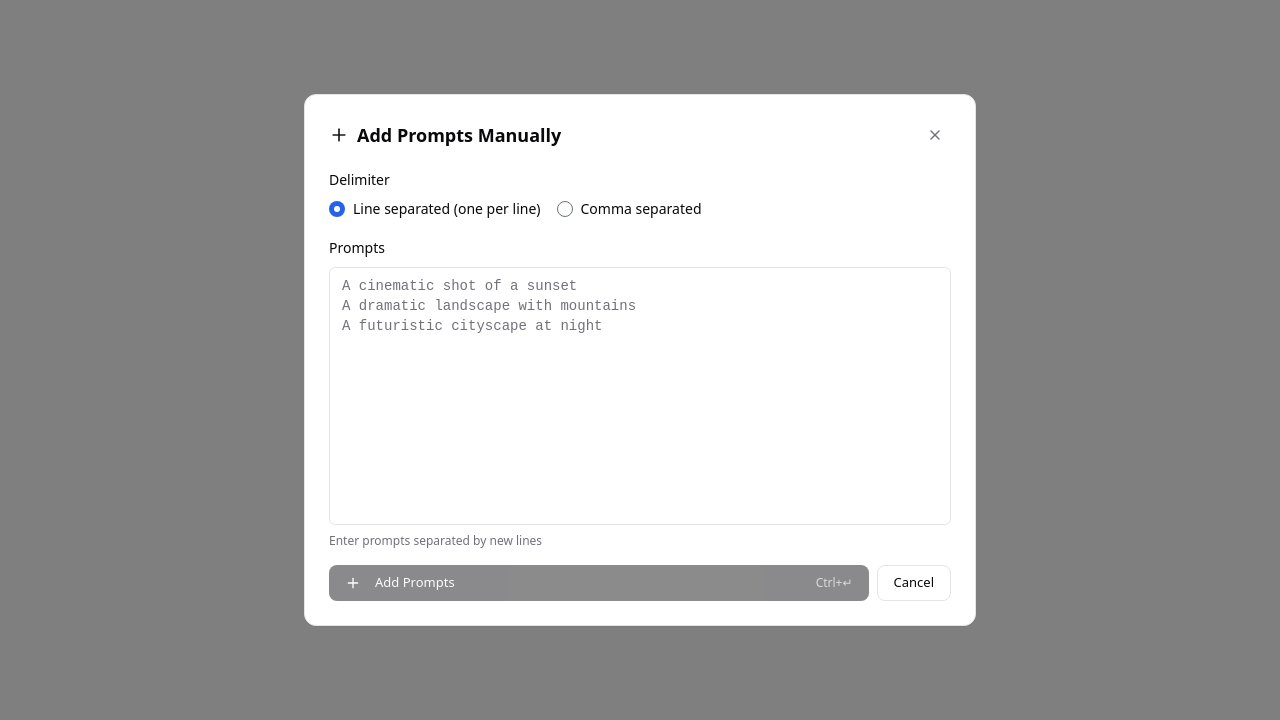
Test: ManualAddDialog › should handle add errors
The image size is (1280, 720).
Replace the text in the text box labelled "Prompts" with "Prompt 1": [640, 396] box [329,267,951,525]
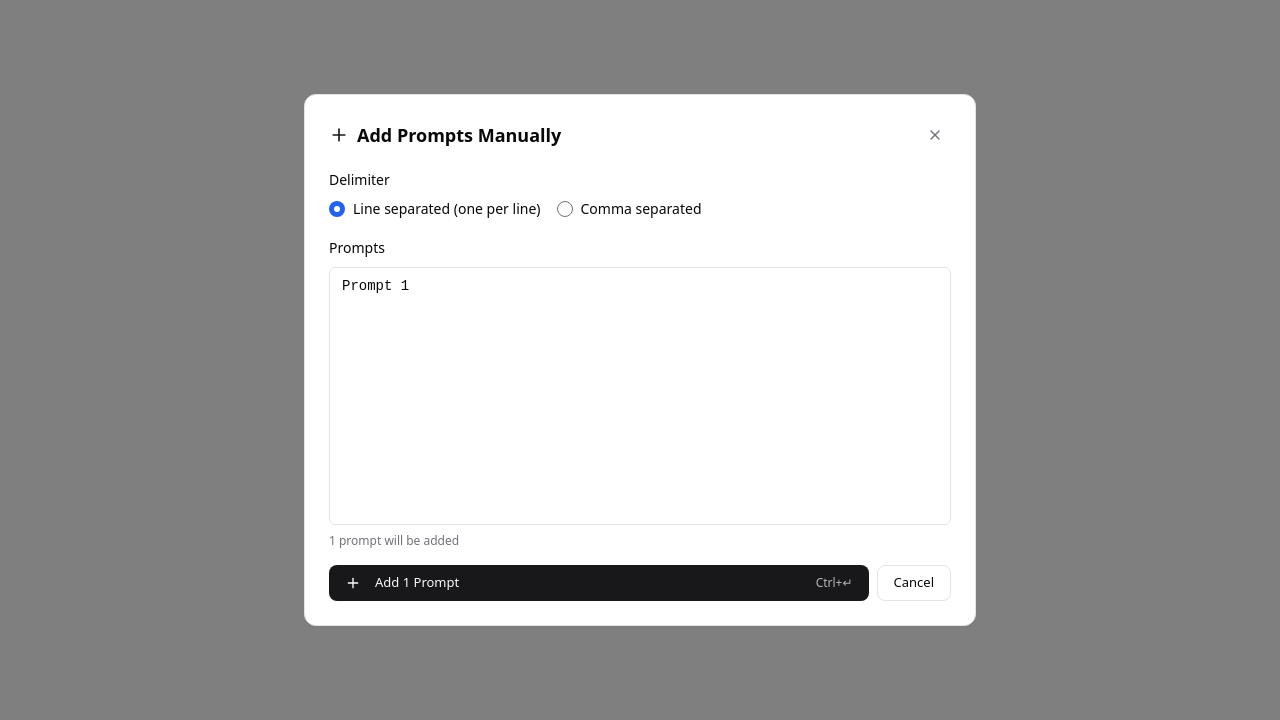
Click the button "Add 1 Prompt Ctrl+↵": [436, 582] box [329,565,868,601]
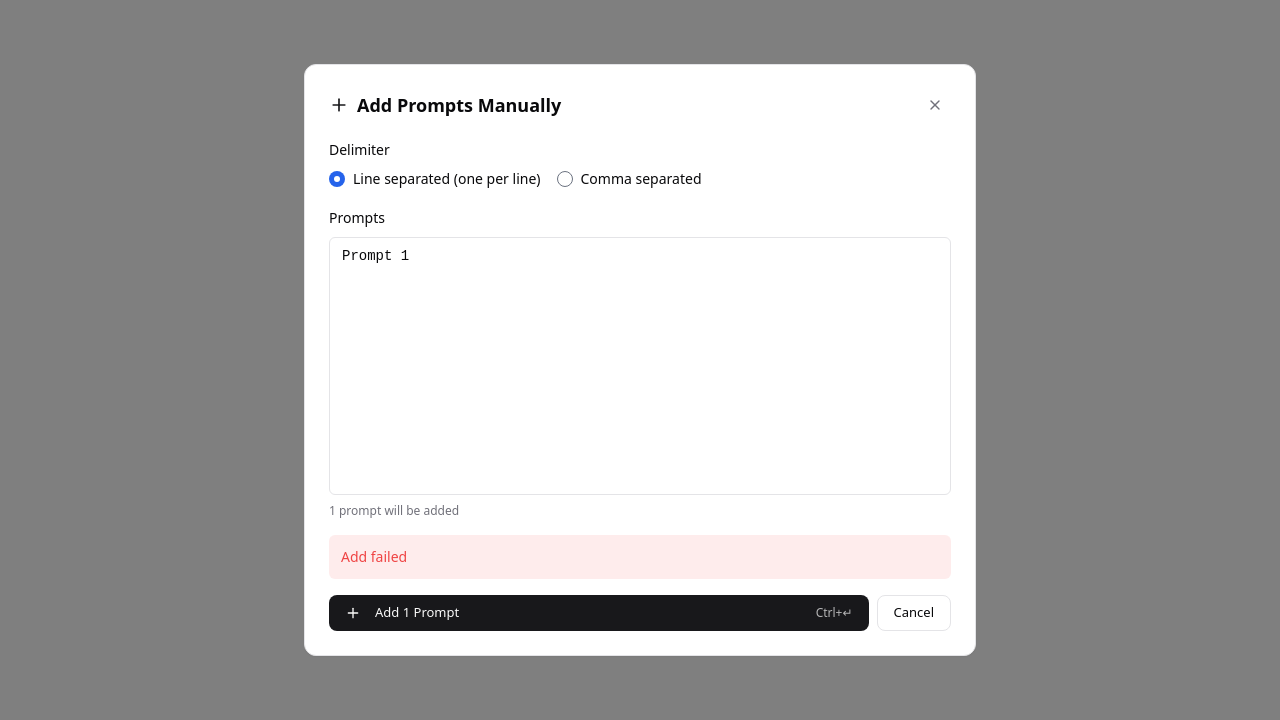
Check: the text "Add failed" is shown, box [329,535,951,579]
